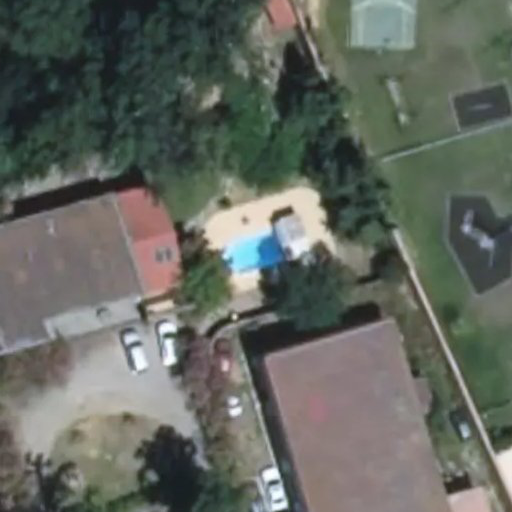pool: (221, 232, 290, 271)
